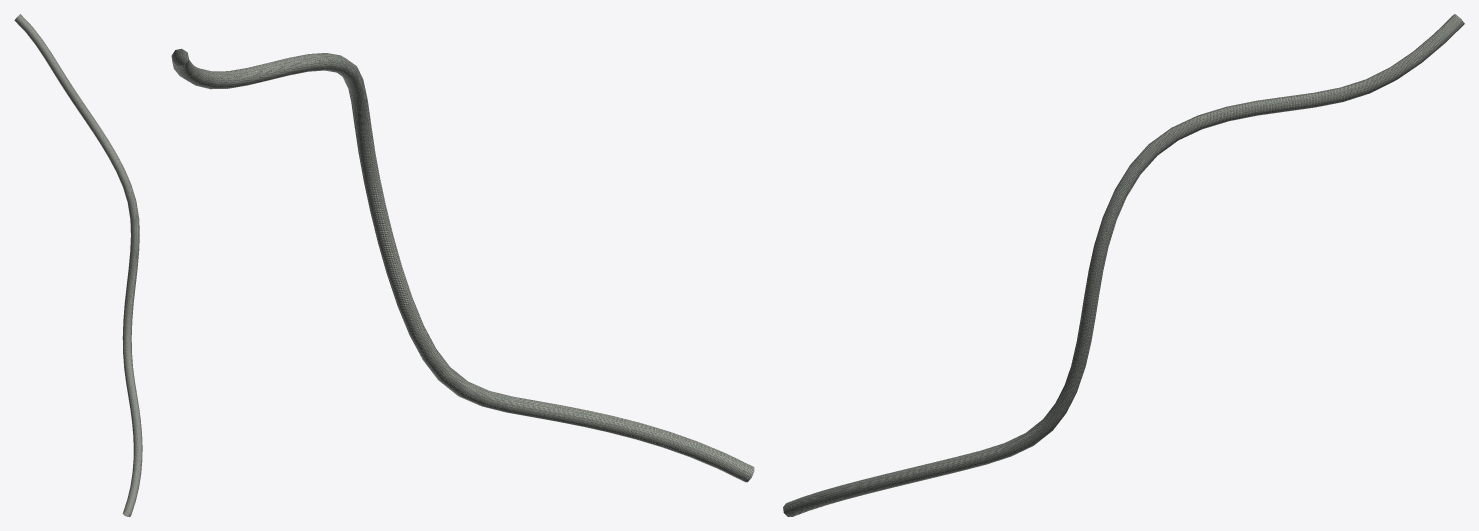
The model's file is microtubule47.fbx.
3 views of the same model, side by side, from view 1: azimuth 30°, elevation 25°; view 2: azimuth 150°, elevation 25°; view 3: azimuth 270°, elevation 25° (orthographic). The views are drawn at different scales.
Visible parts, largest first — view 1: microtubule47; view 2: microtubule47; view 3: microtubule47.
Part boxes in pixels (x1,y1,x2,y2): microtubule47: (14,14,142,516); microtubule47: (171,48,754,482); microtubule47: (783,14,1464,516).
Bounding box in the file's own units: 2051 × 6243 × 6710.
1 material, 1 textured.
